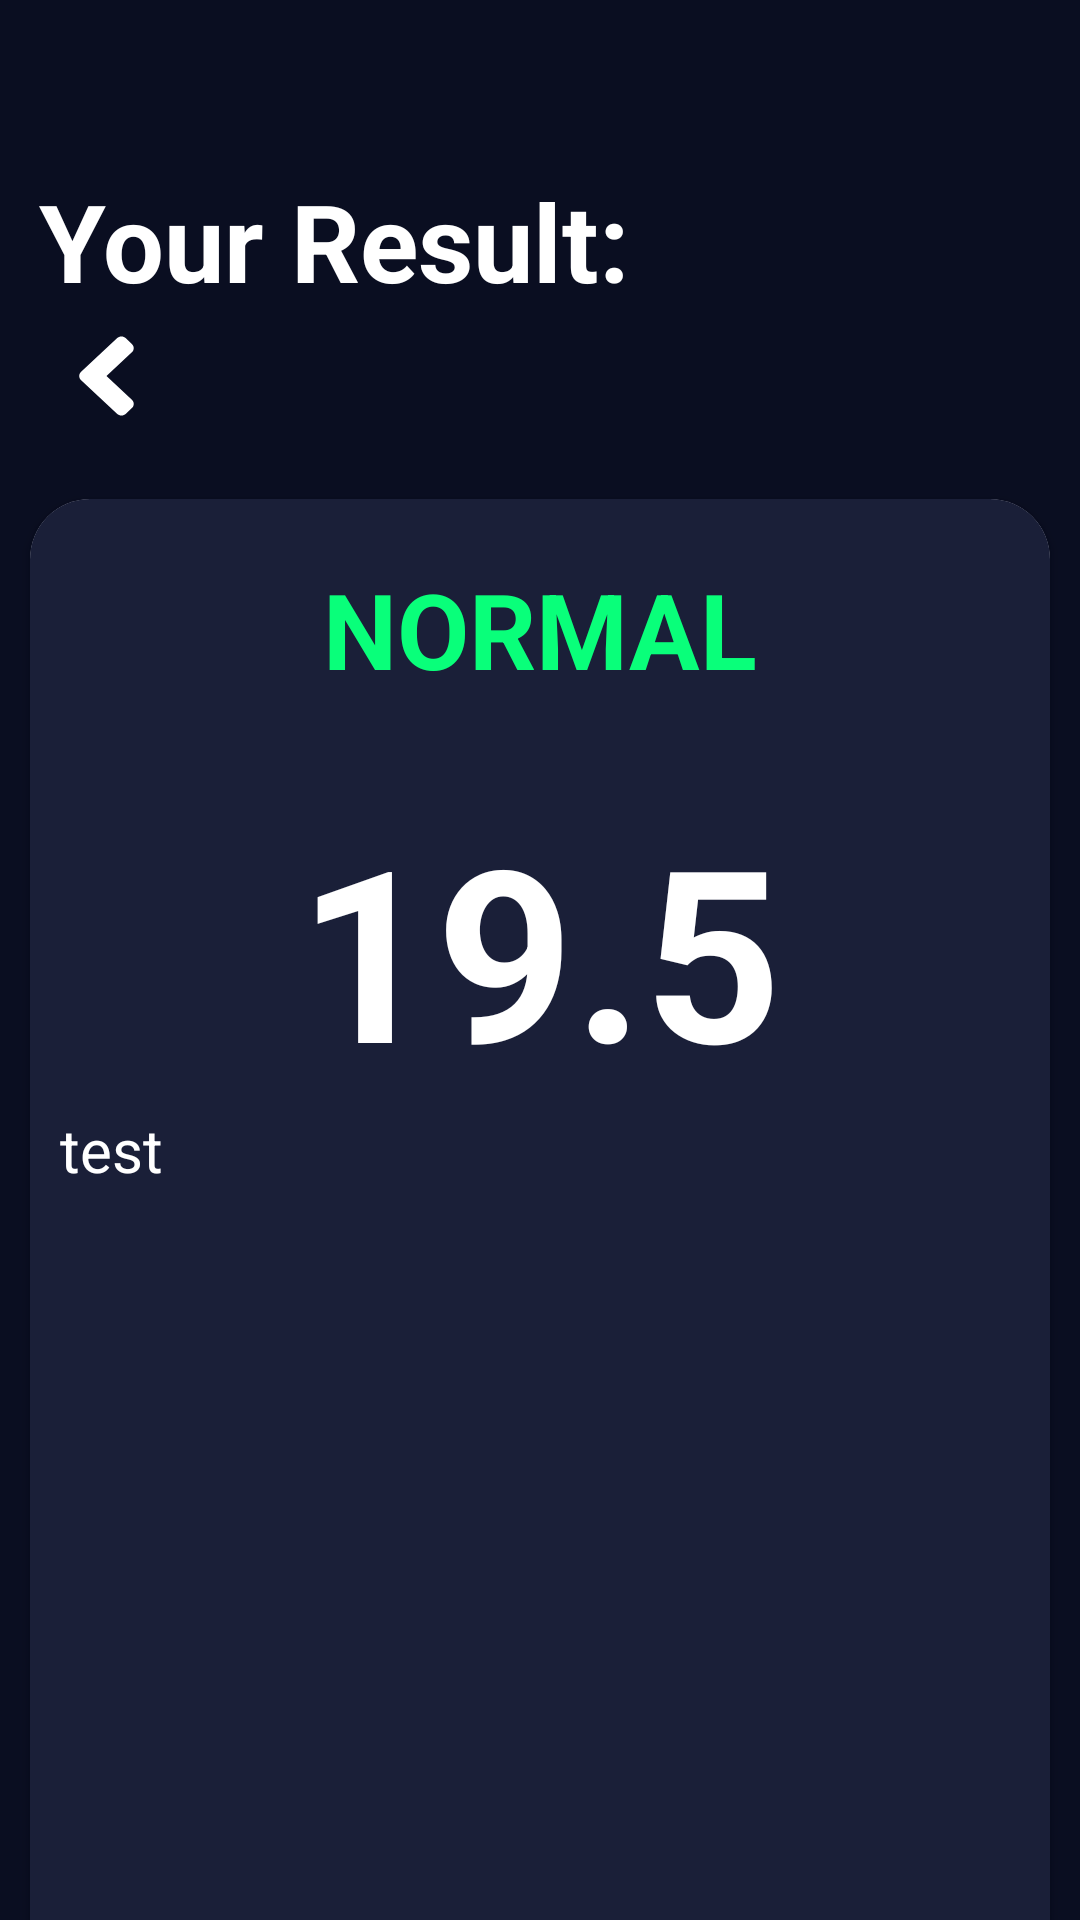

Icons on this 1080x1920 Android screen, each with its box as (x1, y1, x2, y2):
backicon: (79, 336, 134, 416)
